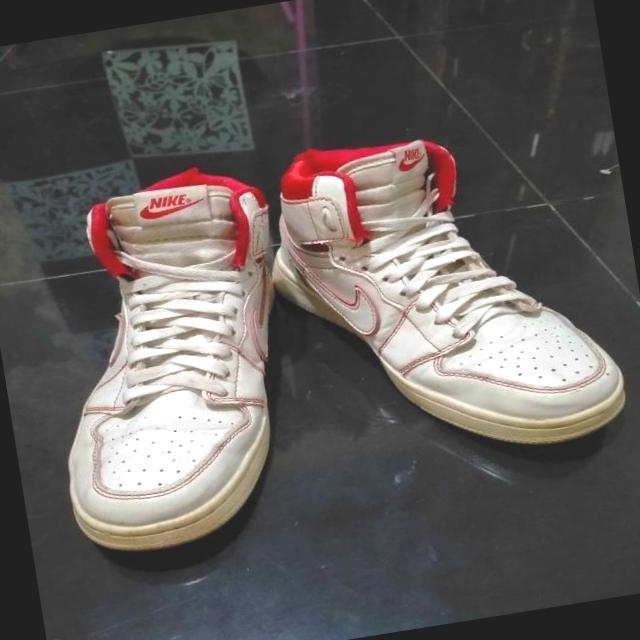nike_fake_jordan: (260, 106, 637, 480), (18, 150, 325, 560)
